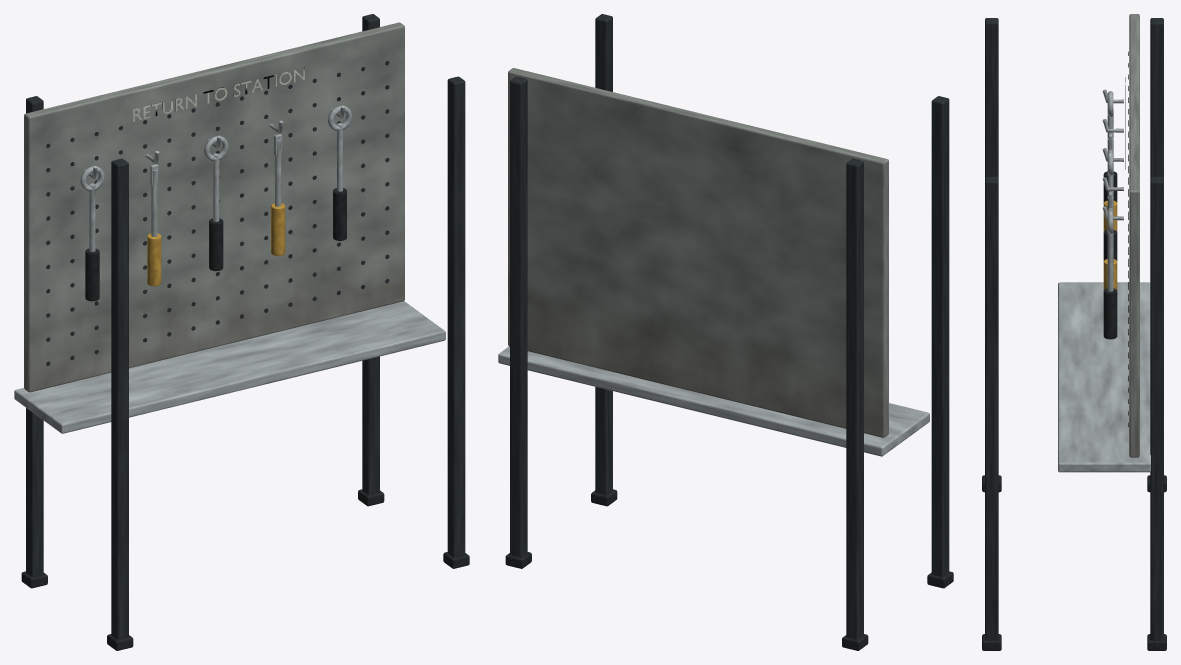
The model's file is GR_Toolboard_02.glb.
The picture shows the model from 3 angles, left to right: view 1: azimuth 30°, elevation 25°; view 2: azimuth 150°, elevation 25°; view 3: azimuth 270°, elevation 25°; orthographic projection. The views are drawn at different scales.
Visible parts, largest first — view 1: Static; view 2: Static; view 3: Static.
Part boxes in pixels (<box>): Static: <box>14,14,469,650</box>; Static: <box>498,14,953,650</box>; Static: <box>982,14,1166,650</box>.
Bounding box in the file's own units: 1.43 × 1.72 × 0.615.
1 material, 1 textured.
